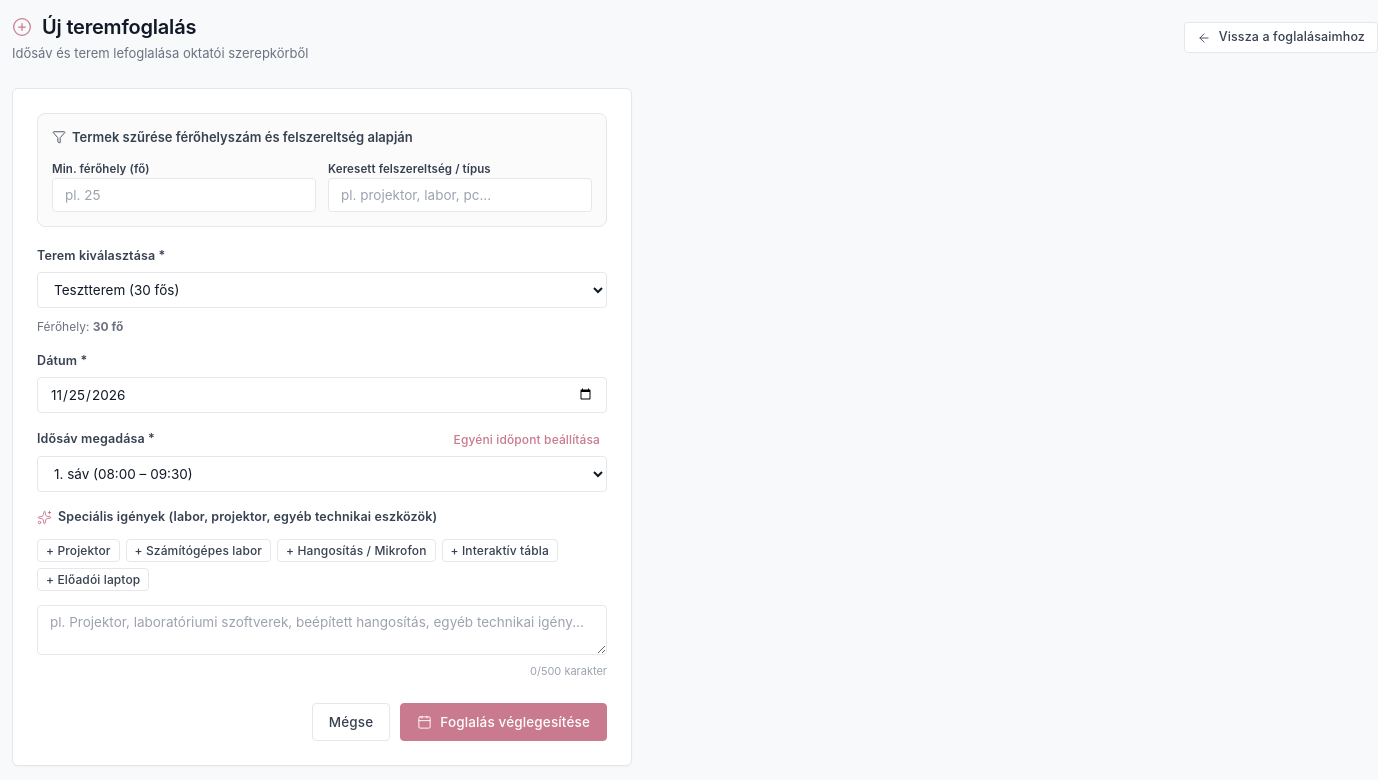
Scenario: NewBookingPage time slots › constrains custom times to the same 45-minute grid and operating hours
Click the button "Egyéni időpont beállítása": (527, 439) [447,429,607,450]
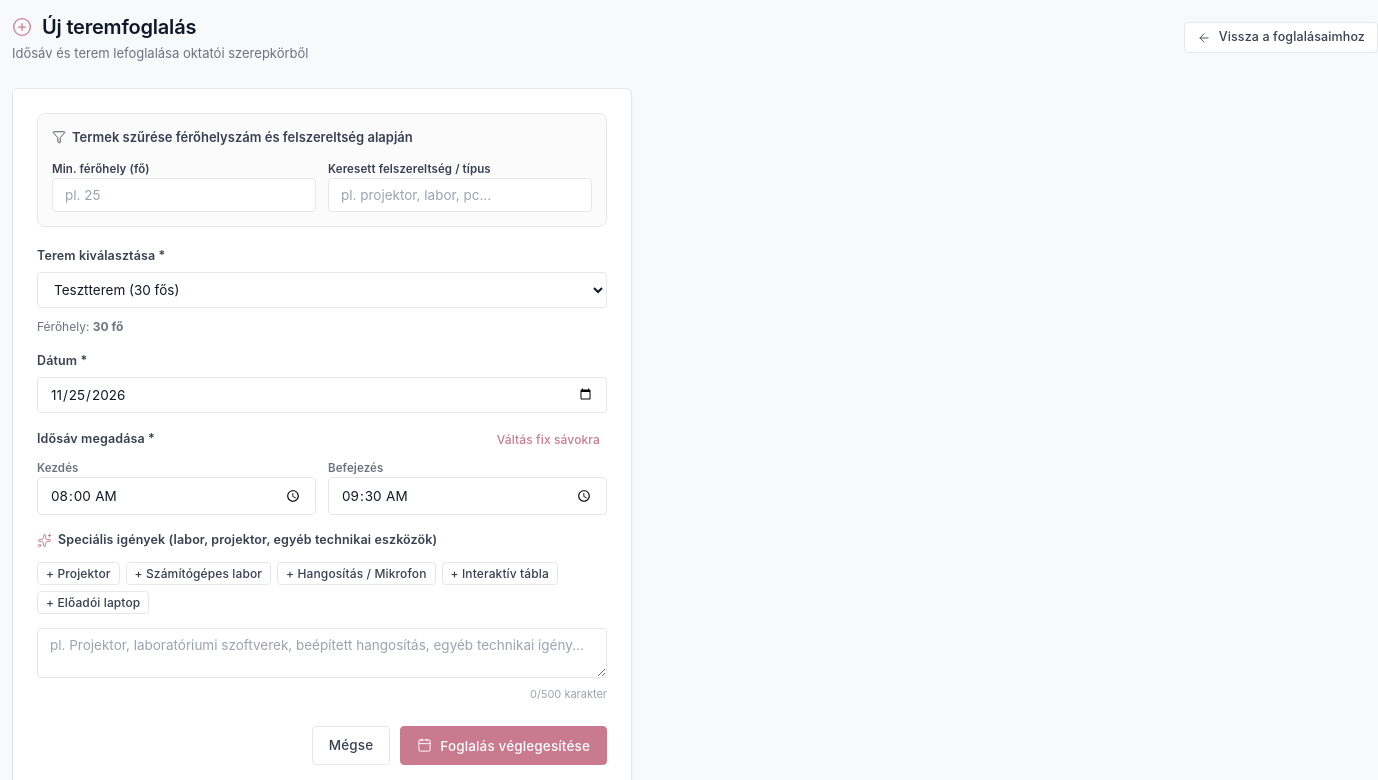
Check: the number of time fields showing "08:00" is 1, box [37,477,316,515]
Check: the number of time fields showing "09:30" is 1, box [328,477,607,515]
